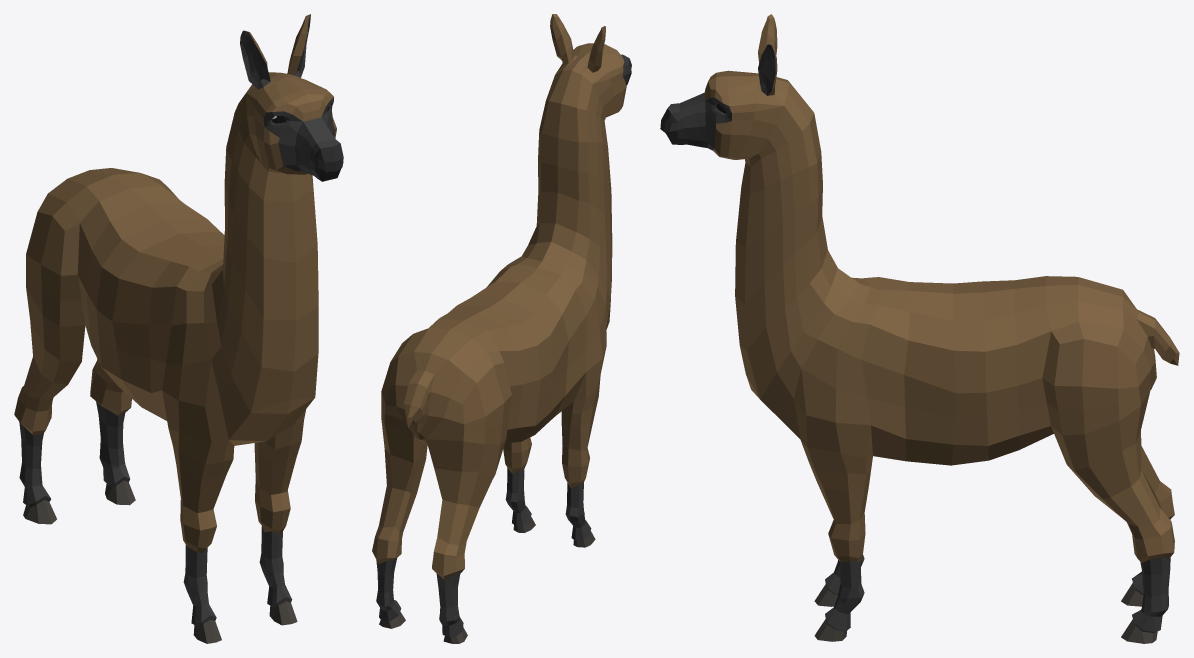
File: alpaca.glb
The picture shows the model from 3 angles, left to right: view 1: azimuth 30°, elevation 25°; view 2: azimuth 150°, elevation 25°; view 3: azimuth 270°, elevation 25°; orthographic projection. The views are drawn at different scales.
Parts seen in each view (by area): view 1: Alpaca; view 2: Alpaca; view 3: Alpaca.
Boxes of the visible parts, left/top/right/bottom form: Alpaca: left=14, top=14, right=343, bottom=643; Alpaca: left=372, top=14, right=631, bottom=643; Alpaca: left=660, top=14, right=1179, bottom=643.
Bounding box in the file's own units: 1.27 × 5.4 × 4.3.
